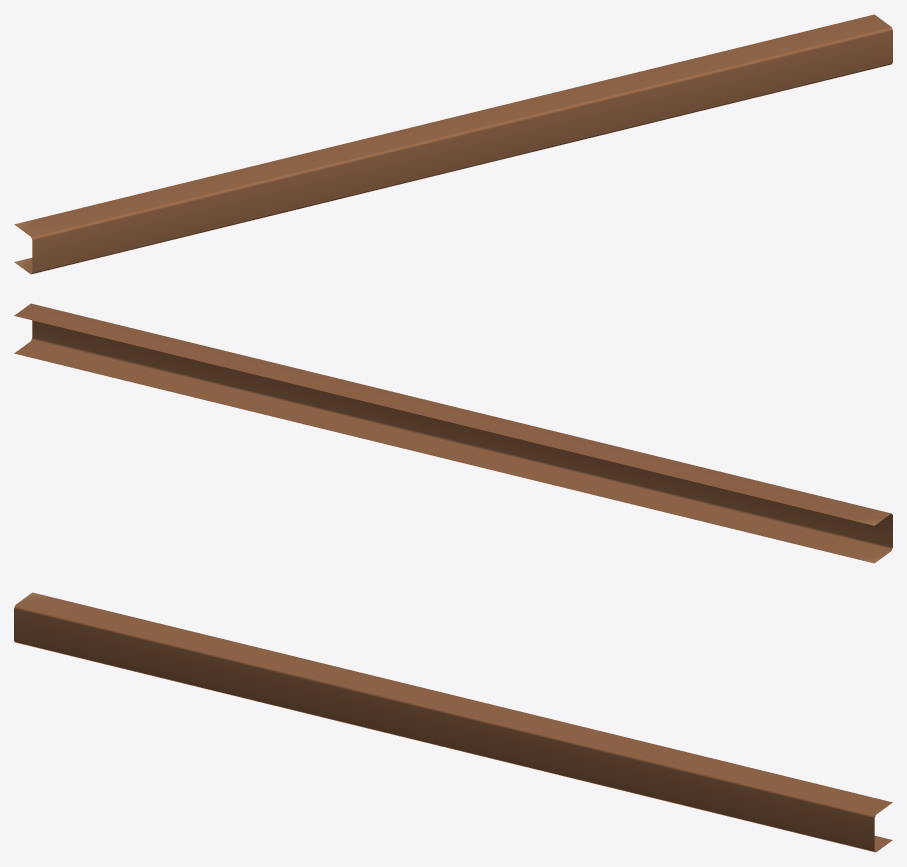
Rendered from DBK_Trim_D_Full.fbx.
3 renders of one model, top to bottom at view 1: azimuth 30°, elevation 25°; view 2: azimuth 150°, elevation 25°; view 3: azimuth 330°, elevation 25°, orthographic.
Parts seen in each view (by area): view 1: DBK_Trim_D_Full; view 2: DBK_Trim_D_Full; view 3: DBK_Trim_D_Full.
Part boxes in pixels (<box>): DBK_Trim_D_Full: <box>14,14,892,274</box>; DBK_Trim_D_Full: <box>14,303,892,563</box>; DBK_Trim_D_Full: <box>14,592,892,852</box>.
Bounding box in the file's own units: 300 × 12.55 × 11.15.
